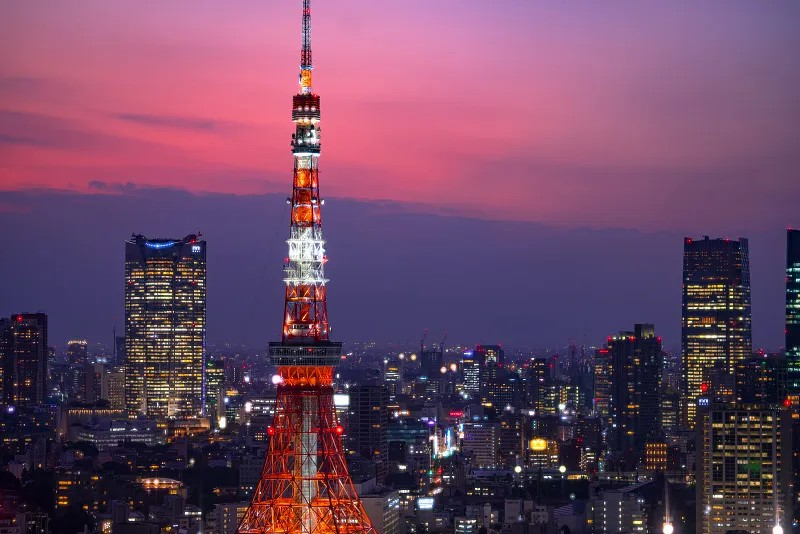Tokyo: (234, 1, 381, 533)
